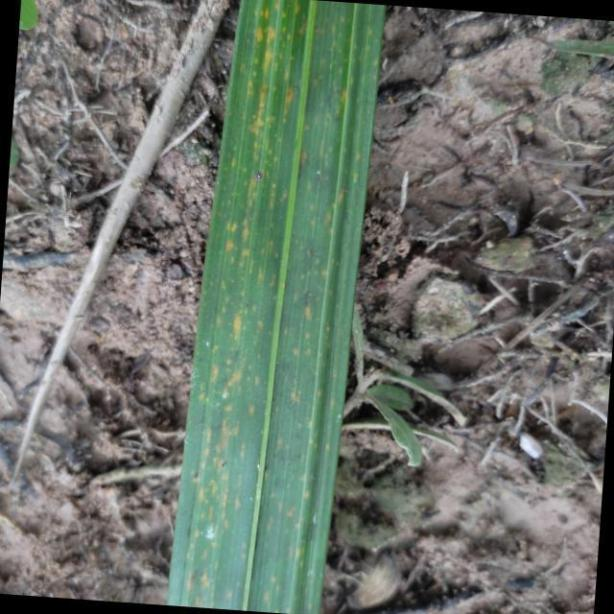Kalium: (164, 0, 388, 614)
